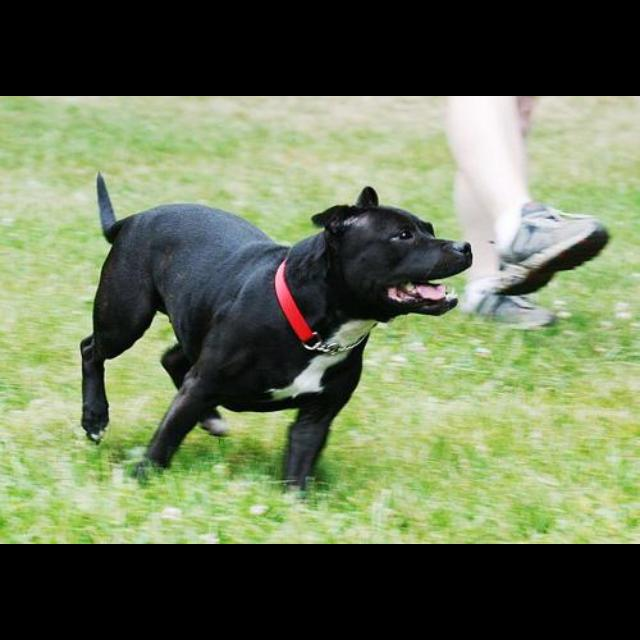staffford: (79, 172, 473, 500)
